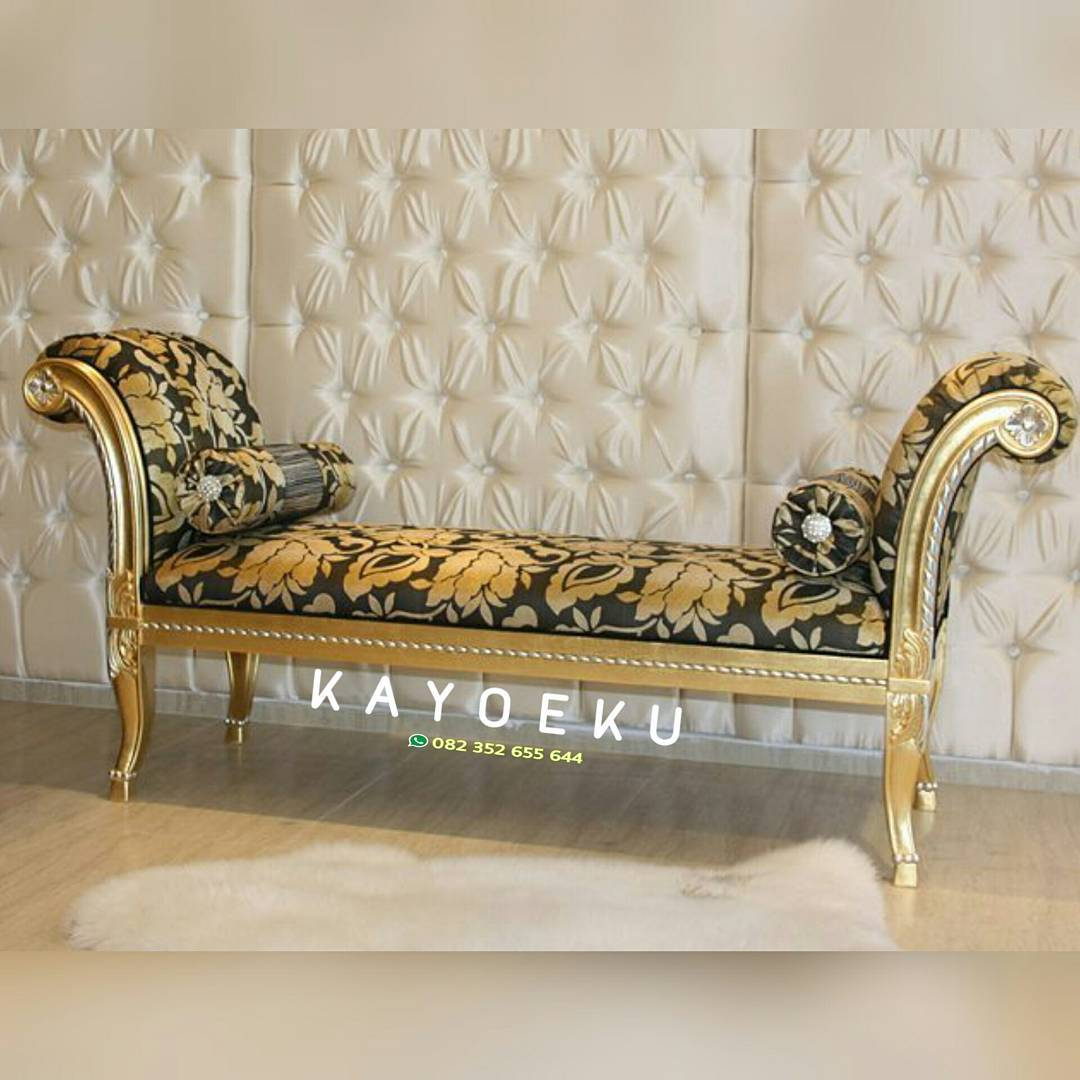Carving Chair: (49, 323, 1033, 897)
